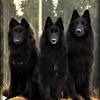Lobo: (67, 9, 96, 89), (7, 14, 37, 84), (39, 13, 67, 86)
